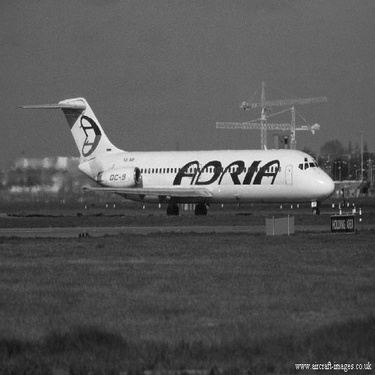airplane: (11, 73, 342, 219)
